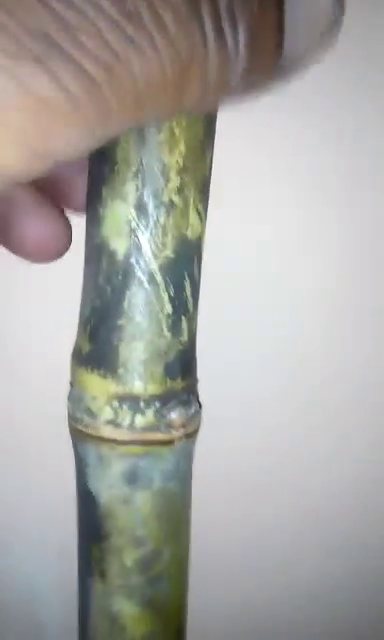cane eye: (163, 399, 194, 431)
